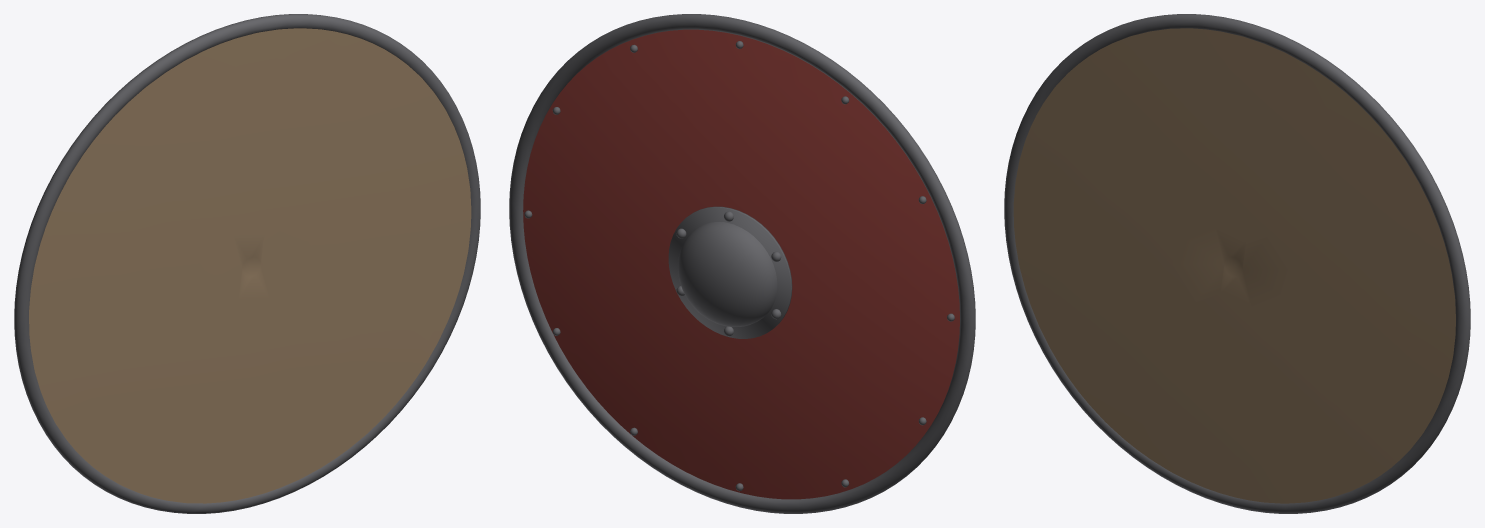
The model's file is RoundShield.fbx.
The picture shows the model from 3 angles, left to right: view 1: azimuth 30°, elevation 25°; view 2: azimuth 150°, elevation 25°; view 3: azimuth 330°, elevation 25°; orthographic projection.
Visible parts, largest first — view 1: RoundShield; view 2: RoundShield; view 3: RoundShield.
Part boxes in pixels (bbox=[...]): RoundShield: bbox=[14, 14, 480, 513]; RoundShield: bbox=[509, 14, 975, 513]; RoundShield: bbox=[1004, 14, 1470, 513].
Bounding box in the file's own units: 72.2 × 72.2 × 9.35.
